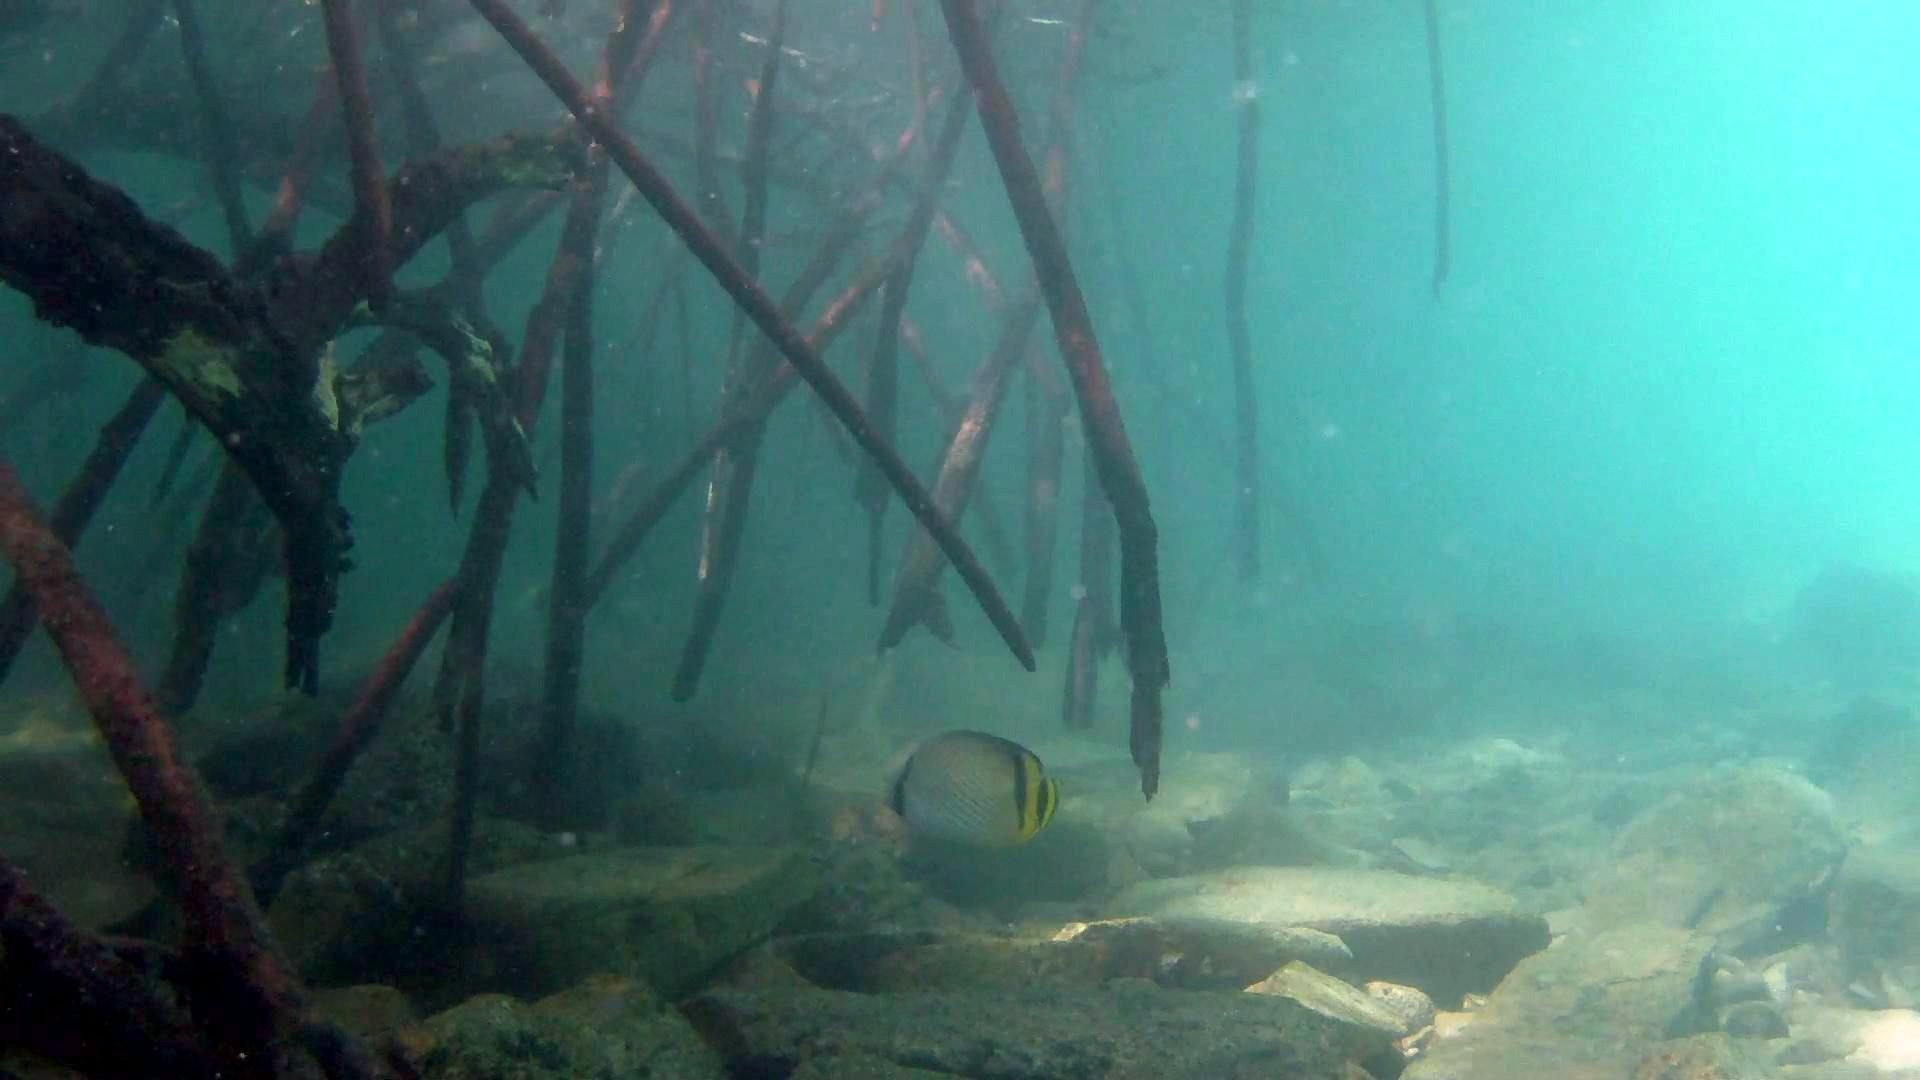chaetodon vagabundus: (868, 723, 1063, 855)
